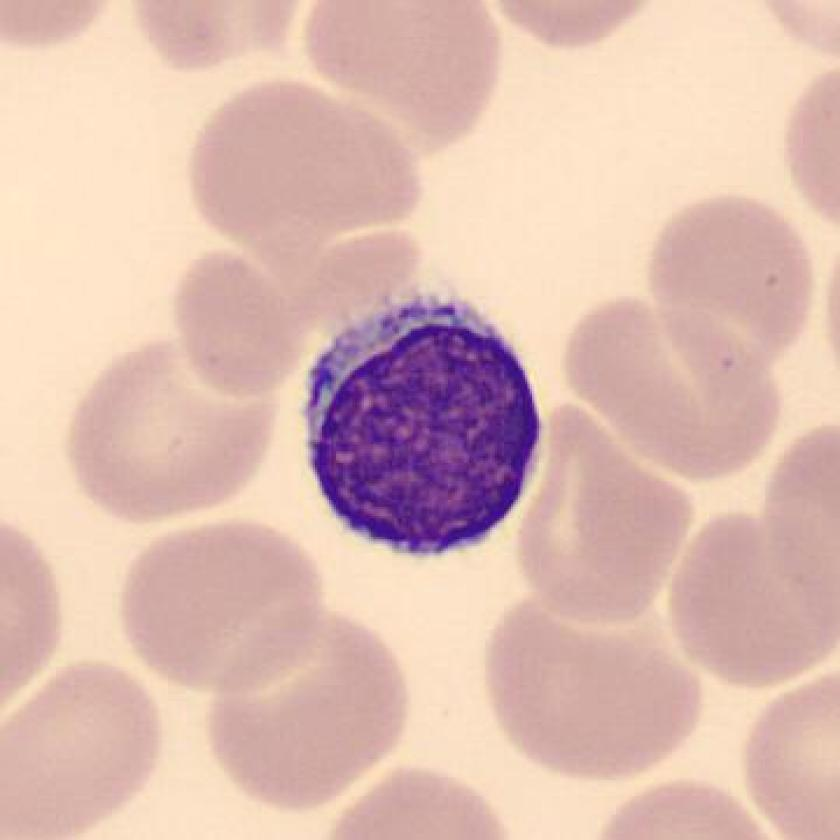lymphocyte: (288, 288, 556, 570)
